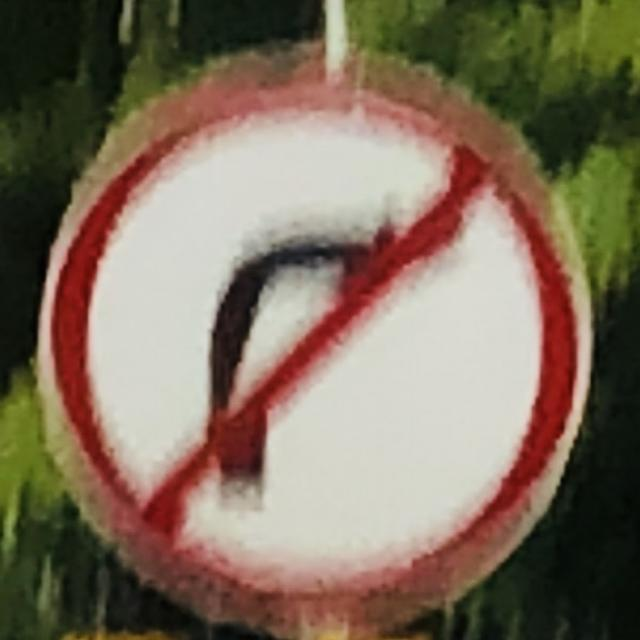right turn prohibited: (33, 44, 588, 608)
